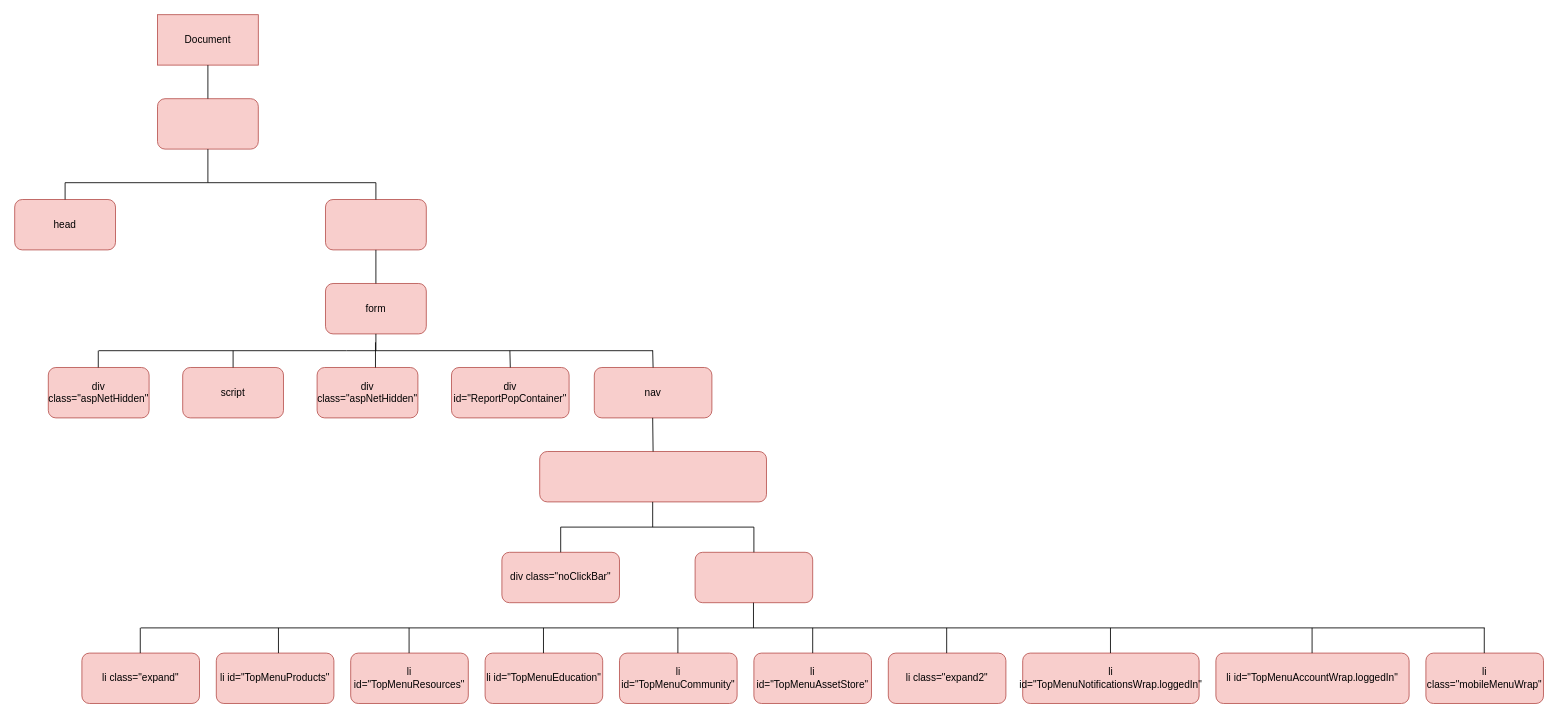
This 1558x718 diagram has some shape labels left out. The shapes that lost their labels are listed below. From the top down, each one's centre as x and y in pixels, then its label:
point 207,123: HTML
point 375,224: body
point 652,476: div class="NewTopMenuWrap.newTopMenuWrap"
point 753,577: ul class="newTopMenu"
